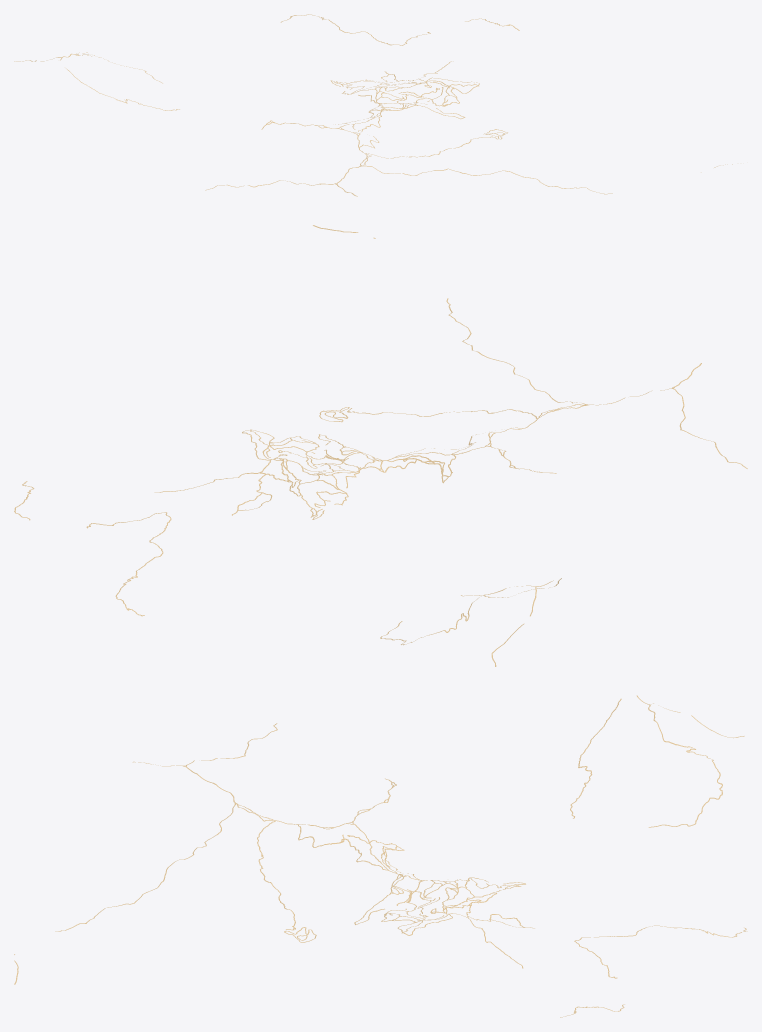
The model's file is trails-detail.glb.
3 views of the same model, one above another, from view 1: azimuth 30°, elevation 25°; view 2: azimuth 150°, elevation 25°; view 3: azimuth 270°, elevation 25° (orthographic). The views are drawn at different scales.
Bounding box in the file's own units: 3377 × 440 × 4009.
